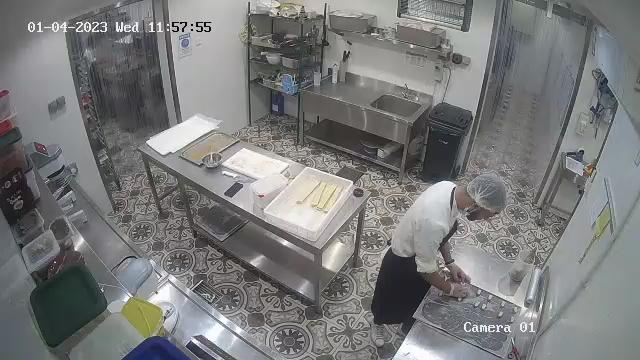no_apron: (374, 184, 462, 318)
